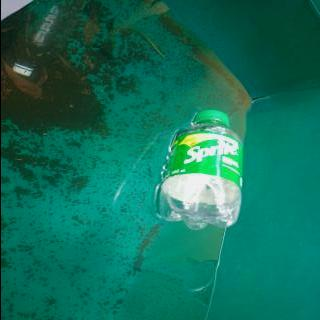bottle: (153, 110, 244, 230)
